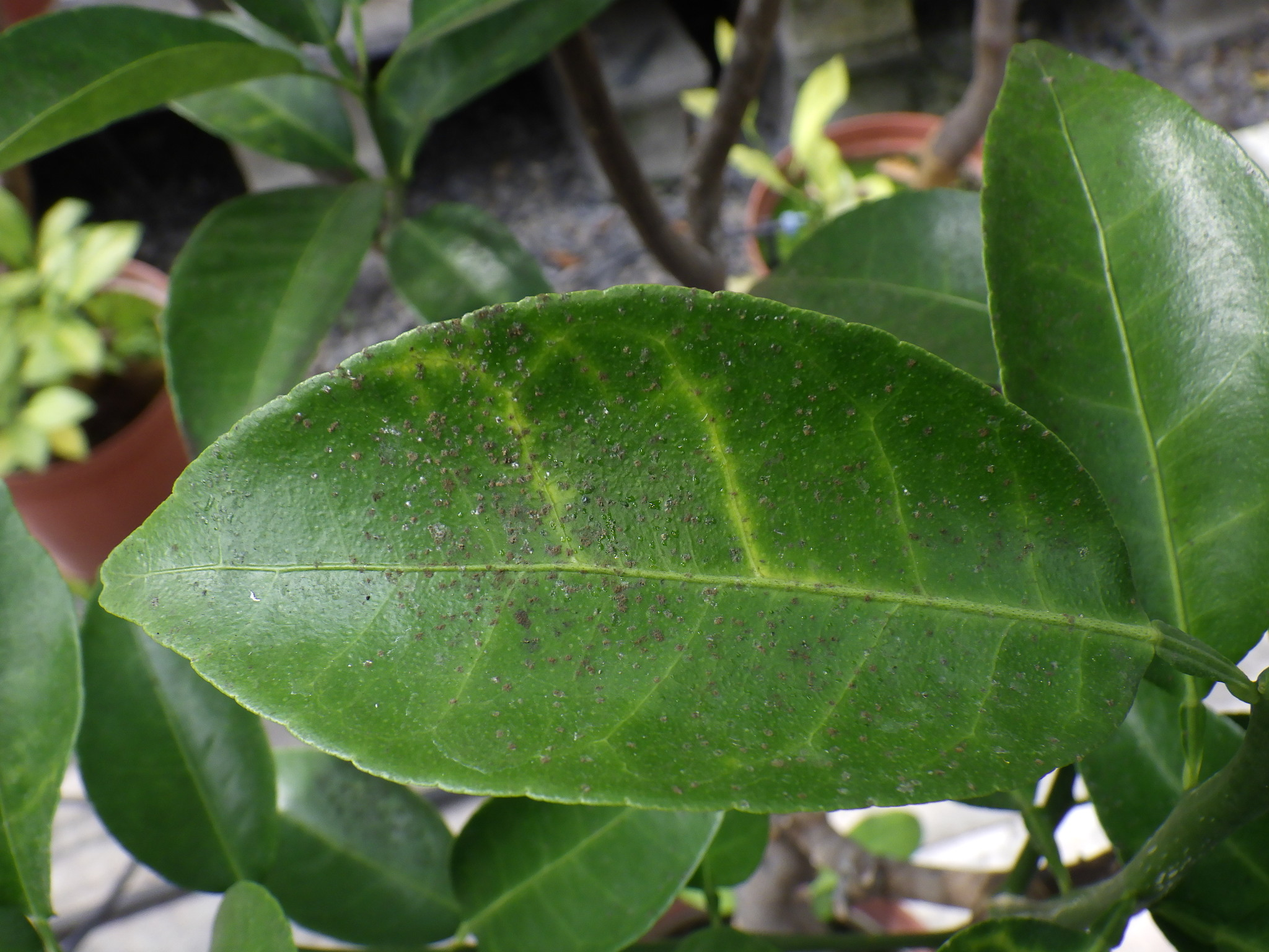Sooty_Mold: (107, 286, 1151, 811)
